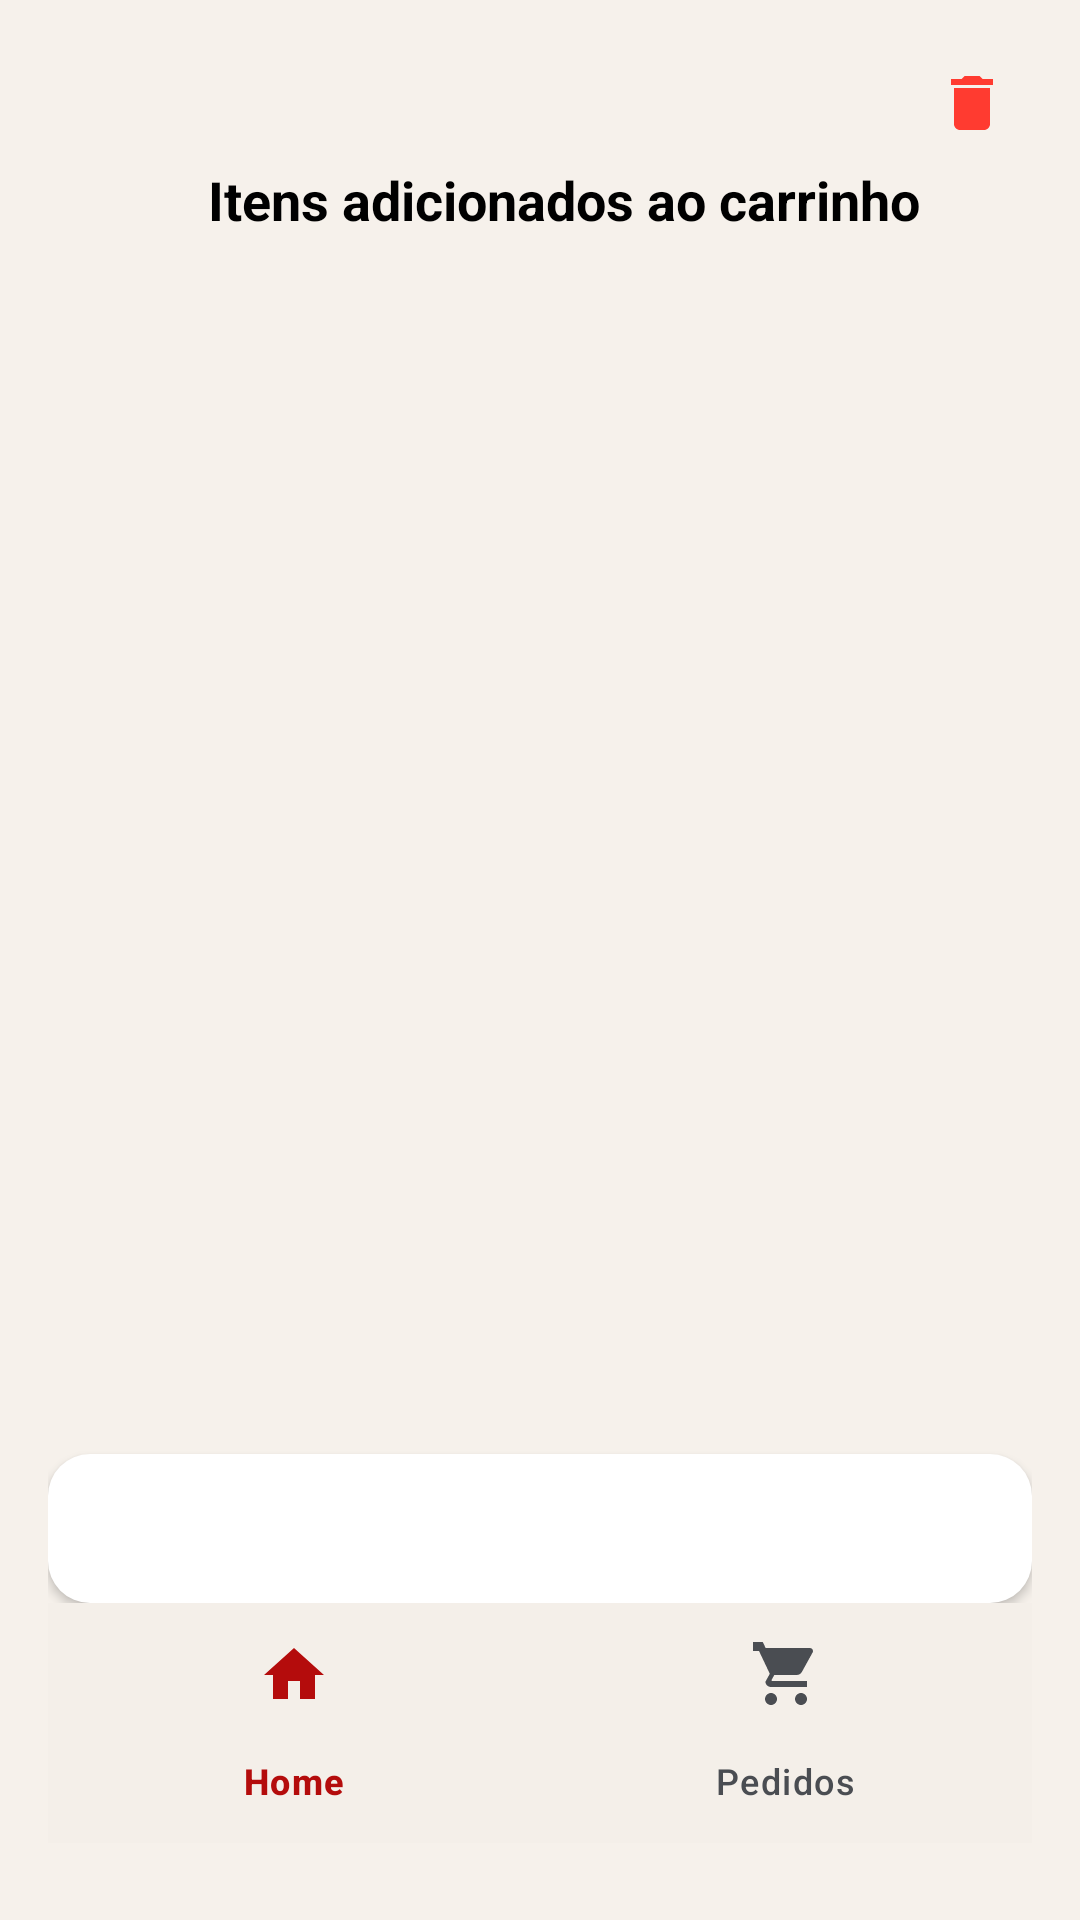

Screen size 1080×1920. Icon name, then its center in pixels as [x,y]:
delete: [972,103]
